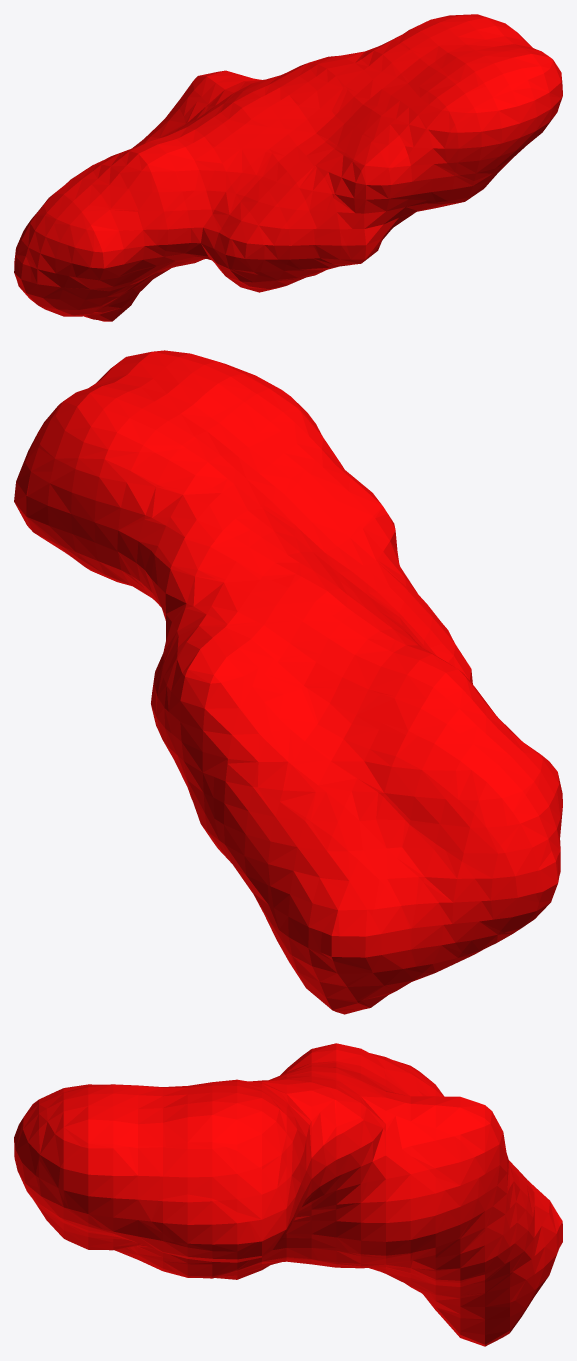
Rendered from frmR_coarse.dae.
3 renders of one model, top to bottom at view 1: azimuth 30°, elevation 25°; view 2: azimuth 150°, elevation 25°; view 3: azimuth 270°, elevation 25°, orthographic. The views are drawn at different scales.
Visible parts, largest first — view 1: frmR; view 2: frmR; view 3: frmR.
Part boxes in pixels (x1=…): frmR: x1=14, y1=14, x2=562, y2=321; frmR: x1=14, y1=350, x2=562, y2=1014; frmR: x1=14, y1=1043, x2=562, y2=1346.
Bounding box in the file's own units: 56.04 × 37.11 × 43.68.
